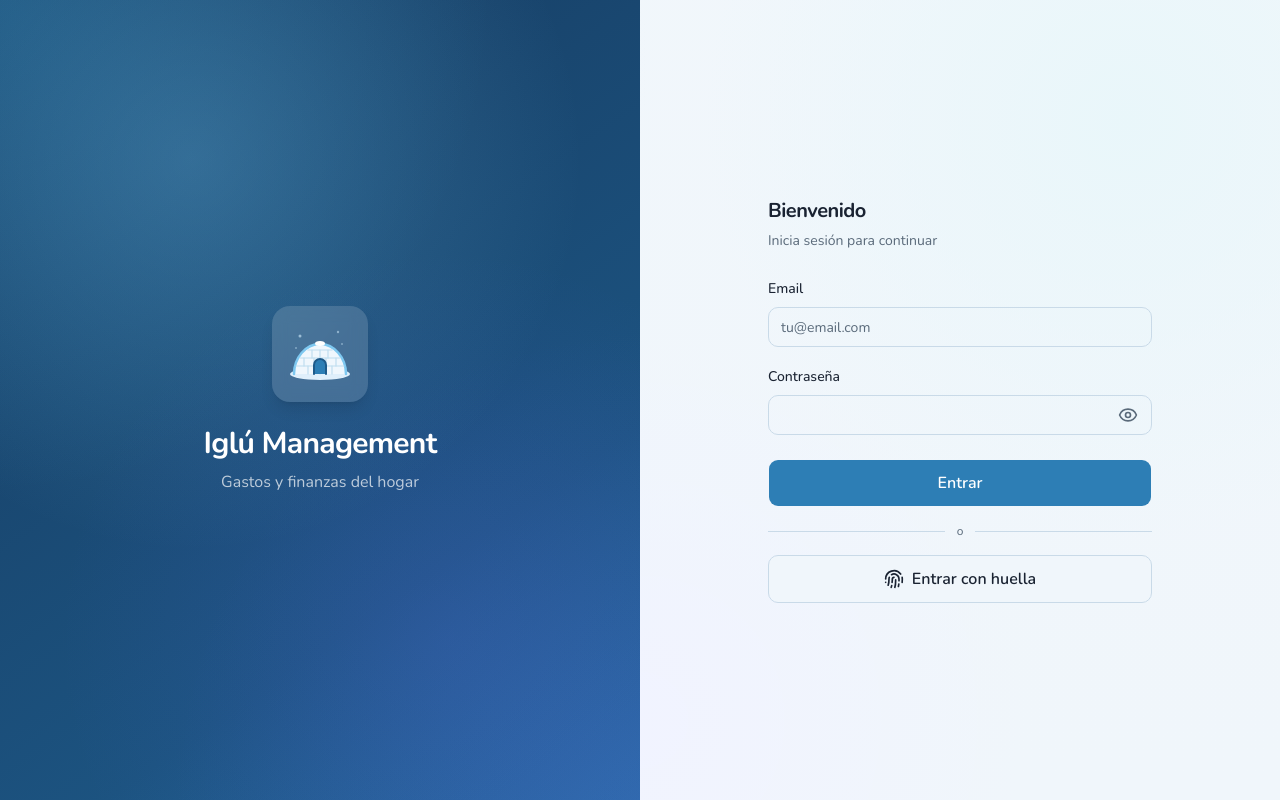
Test: login page › shows passkey loader and error when verification fails
What coordinates should you click on to do the following:
click the button "Entrar con huella"
I would click on:
 (960, 579)
Its box is [768, 555, 1152, 603].
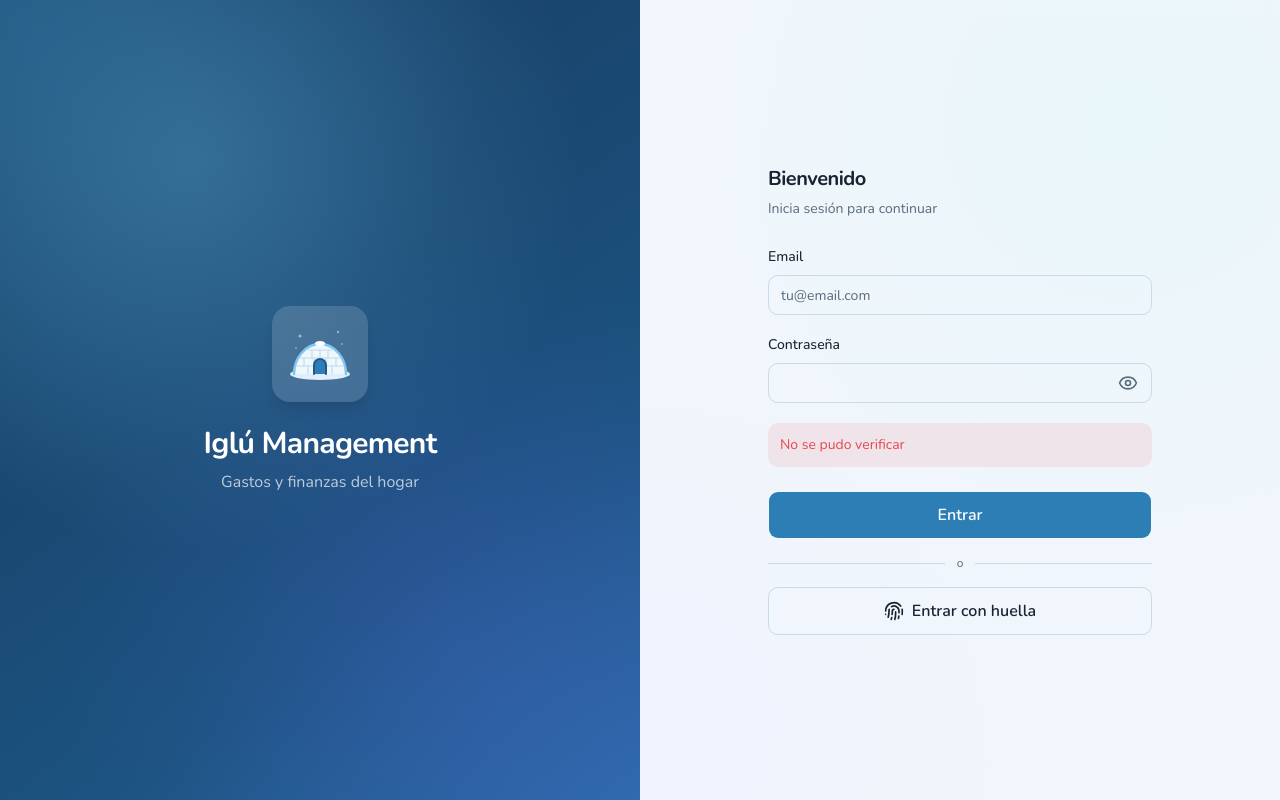
Check: the button "Entrar con huella" is enabled, box [768, 587, 1152, 635]
Check: the text "No se pudo verificar" is shown, box [768, 423, 1152, 467]
